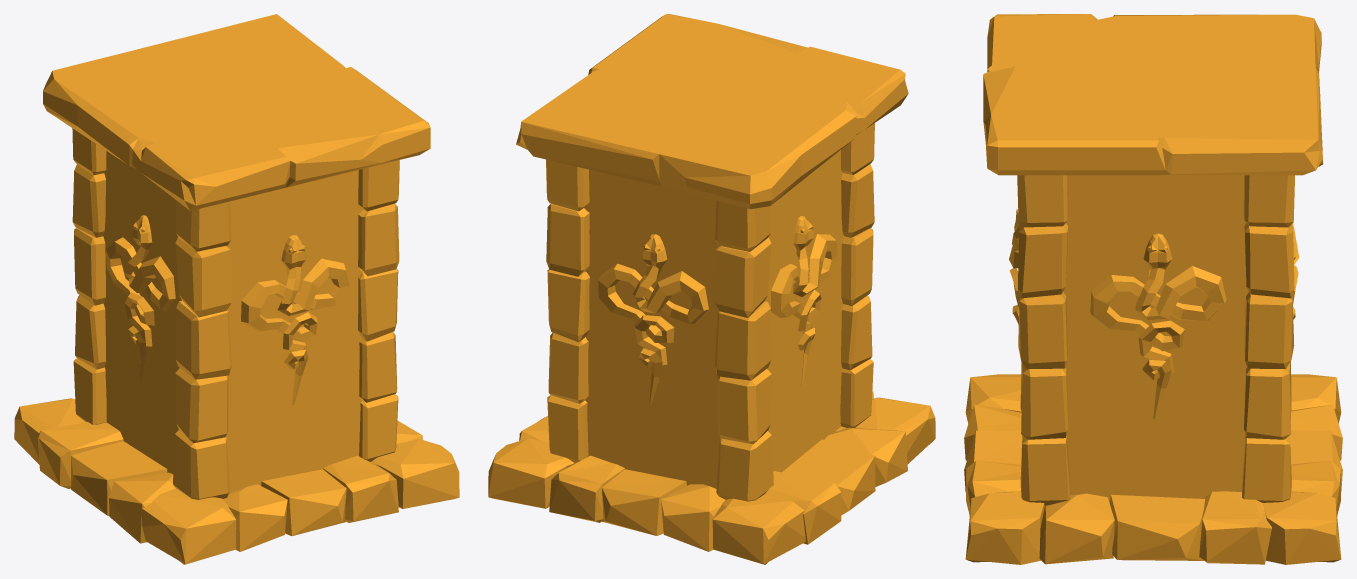
Rendered from SM_Pedestal_Rugged_D_Fantasy.fbx.
3 renders of one model, left to right at view 1: azimuth 30°, elevation 25°; view 2: azimuth 150°, elevation 25°; view 3: azimuth 270°, elevation 25°, orthographic. The views are drawn at different scales.
Parts seen in each view (by area): view 1: SM_Pedestal_Rugged_Fantasy_D; view 2: SM_Pedestal_Rugged_Fantasy_D; view 3: SM_Pedestal_Rugged_Fantasy_D.
Boxes of the visible parts, box(x1,y1,x2,y2) form: SM_Pedestal_Rugged_Fantasy_D: box(14, 14, 459, 564); SM_Pedestal_Rugged_Fantasy_D: box(488, 14, 935, 564); SM_Pedestal_Rugged_Fantasy_D: box(964, 14, 1342, 564).
Size of the model in its own units: 1 by 1.2 by 1.
